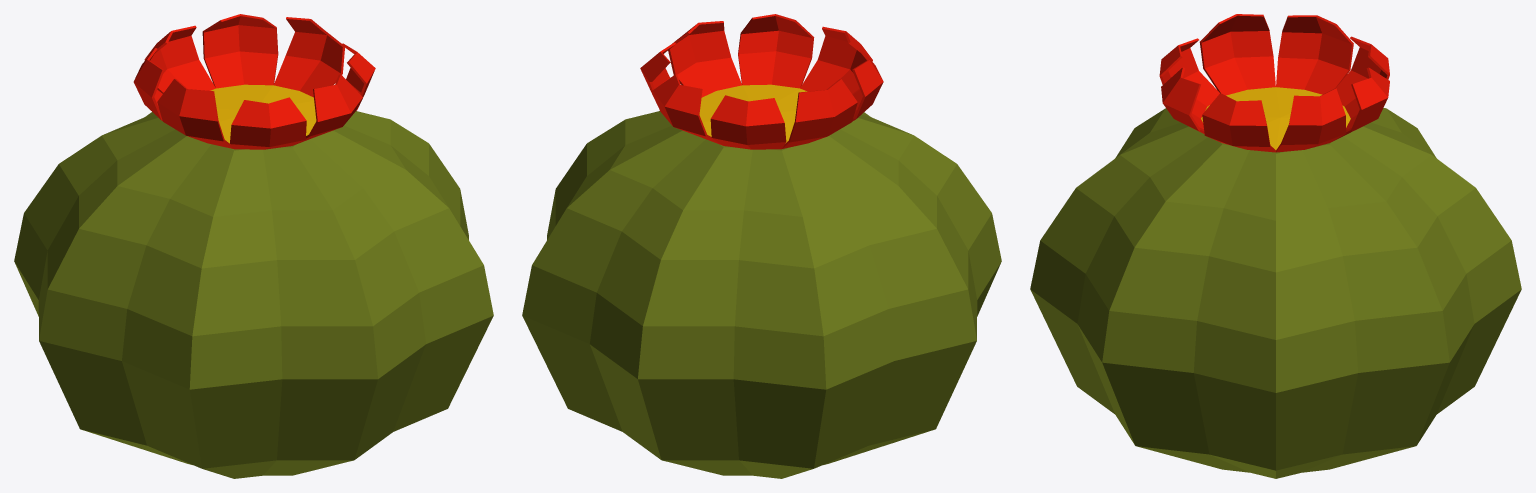
File: Plant_2.fbx
3 views of the same model, side by side, from view 1: azimuth 30°, elevation 25°; view 2: azimuth 150°, elevation 25°; view 3: azimuth 270°, elevation 25° (orthographic).
Visible parts, largest first — view 1: Plant_2; view 2: Plant_2; view 3: Plant_2.
Part boxes in pixels (x1=…): Plant_2: x1=14, y1=14, x2=493, y2=478; Plant_2: x1=522, y1=14, x2=1001, y2=478; Plant_2: x1=1030, y1=14, x2=1521, y2=478.
Size of the model in its own units: 0.6263 by 0.5604 by 0.6263.
